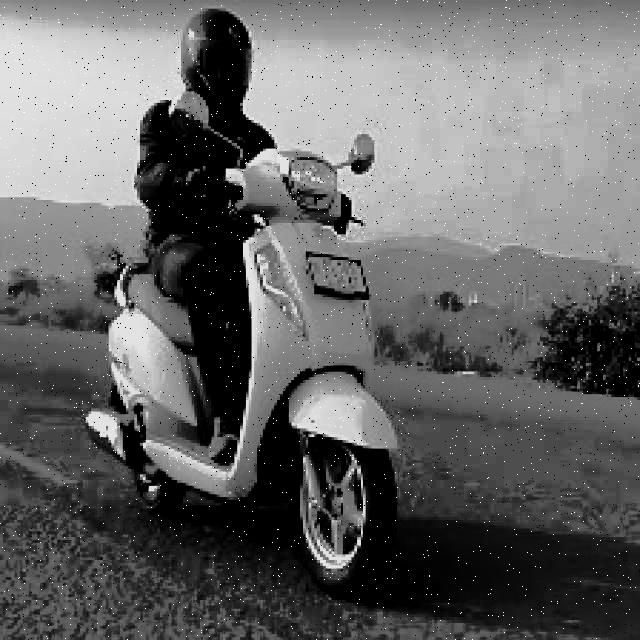Bike: (69, 125, 419, 597)
